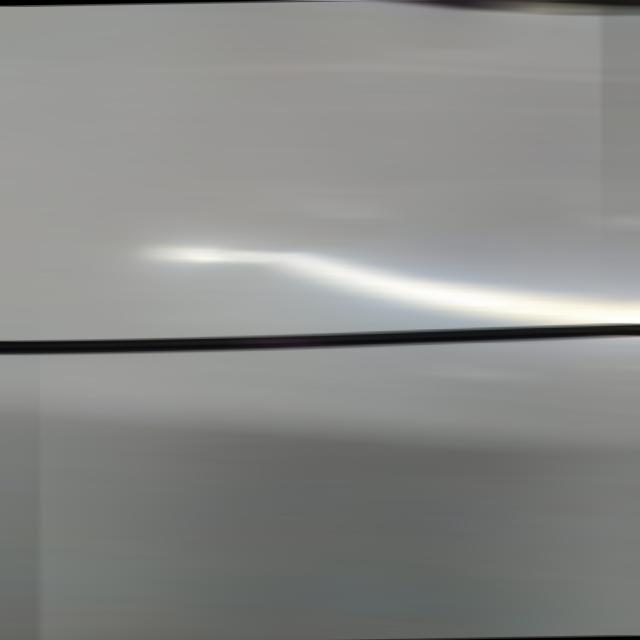pink: (252, 334, 313, 347)
